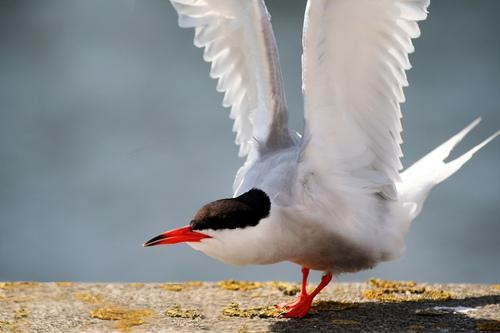bird: (139, 1, 495, 320)
